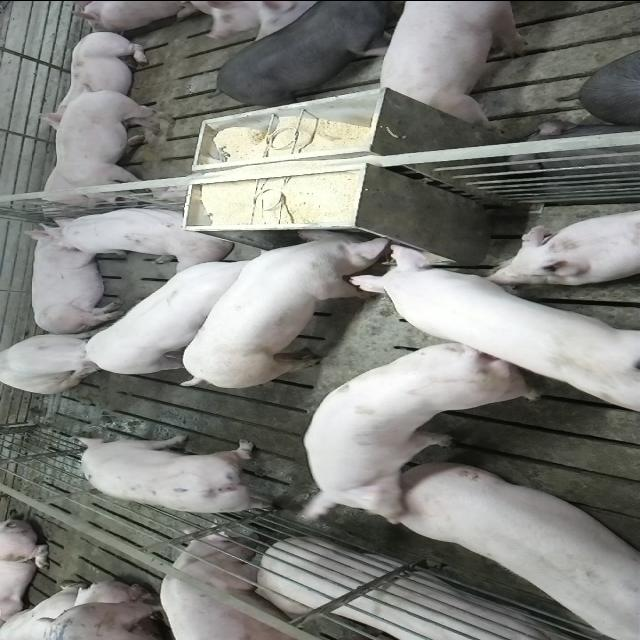Feeding: (350, 239, 640, 429), (174, 222, 408, 386)
Lateral_lying: (225, 537, 593, 640), (22, 222, 126, 334)
Sitting: (1, 330, 117, 393)
Standing: (299, 343, 546, 527), (391, 458, 638, 636), (79, 249, 281, 378), (215, 2, 415, 106), (378, 2, 538, 128), (76, 432, 290, 518), (50, 86, 182, 214), (160, 533, 302, 640)
Sternal_lying: (40, 202, 234, 266), (486, 202, 638, 280), (32, 30, 154, 126)
